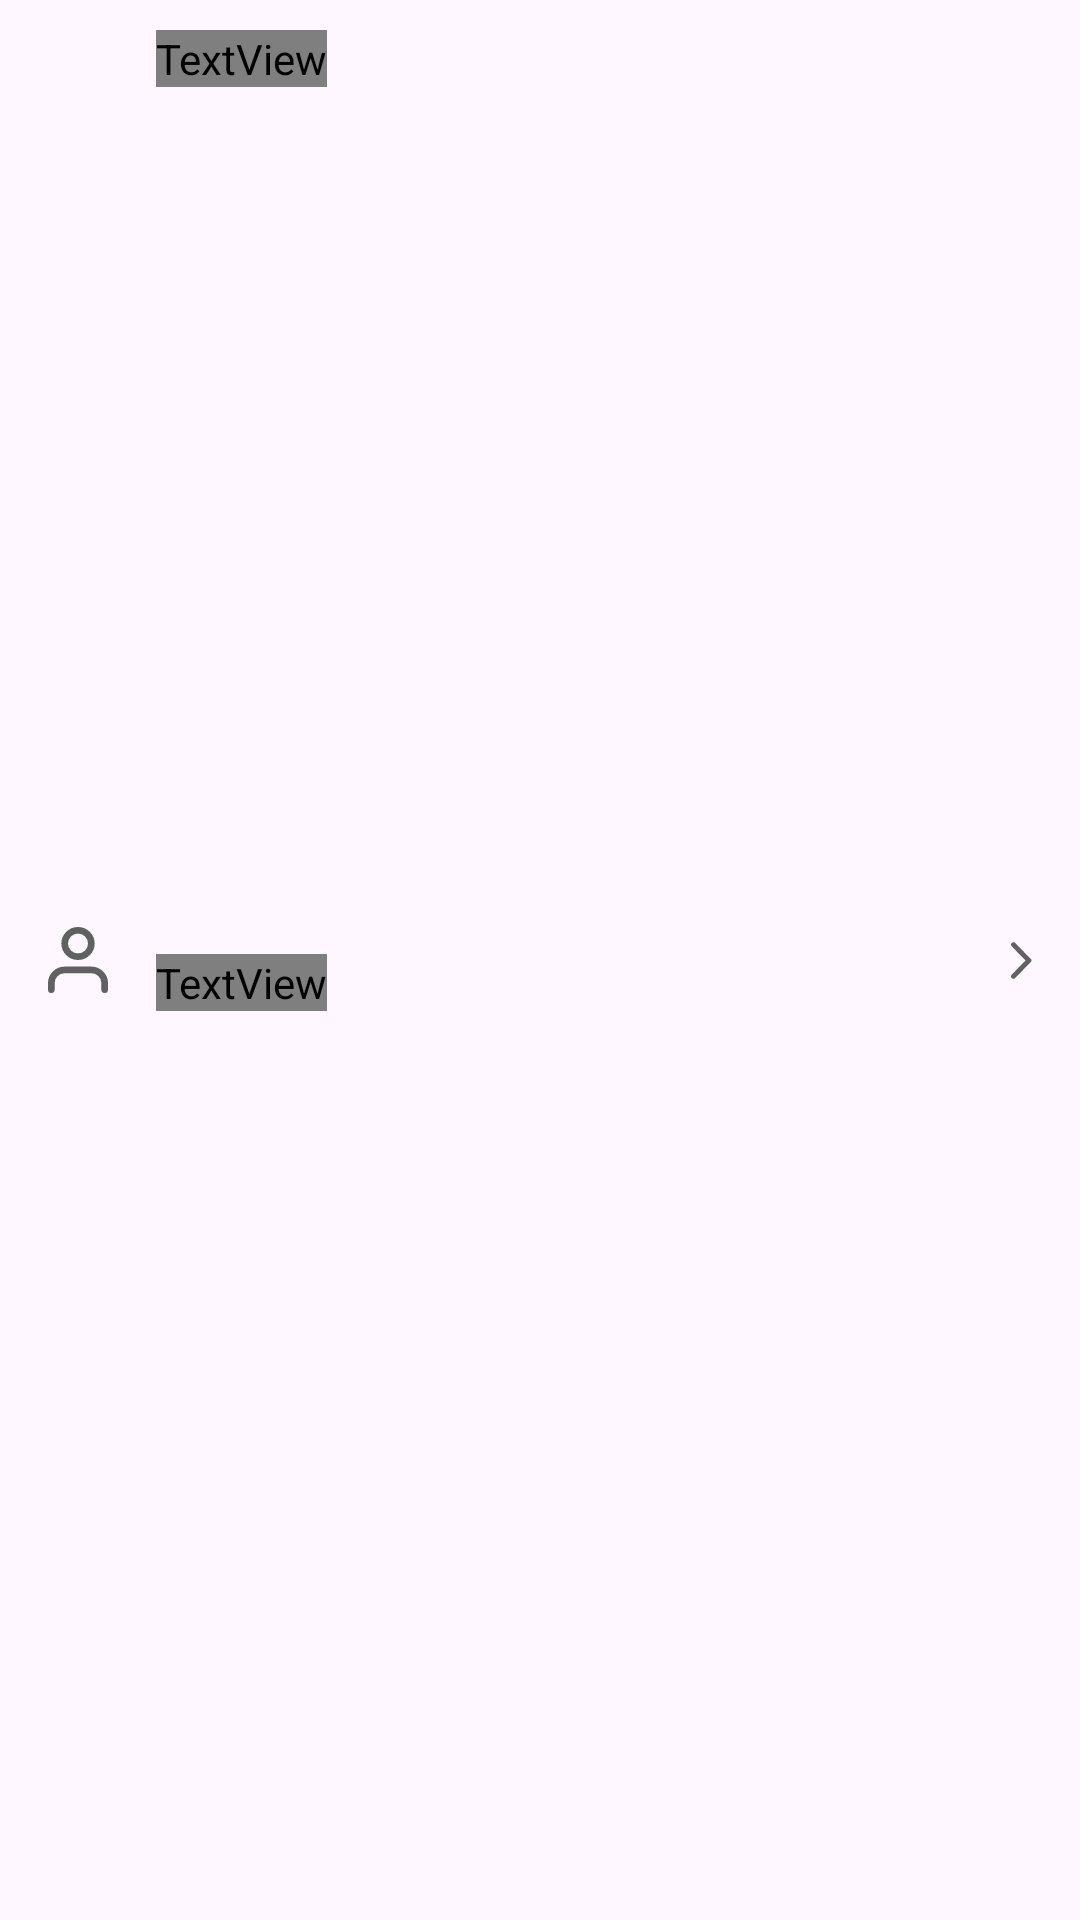

Icon bounding boxes for this 1080 x 1920 phone screenshot, format (x1, y1, x2, y2):
user ecom: (48, 927, 108, 993)
